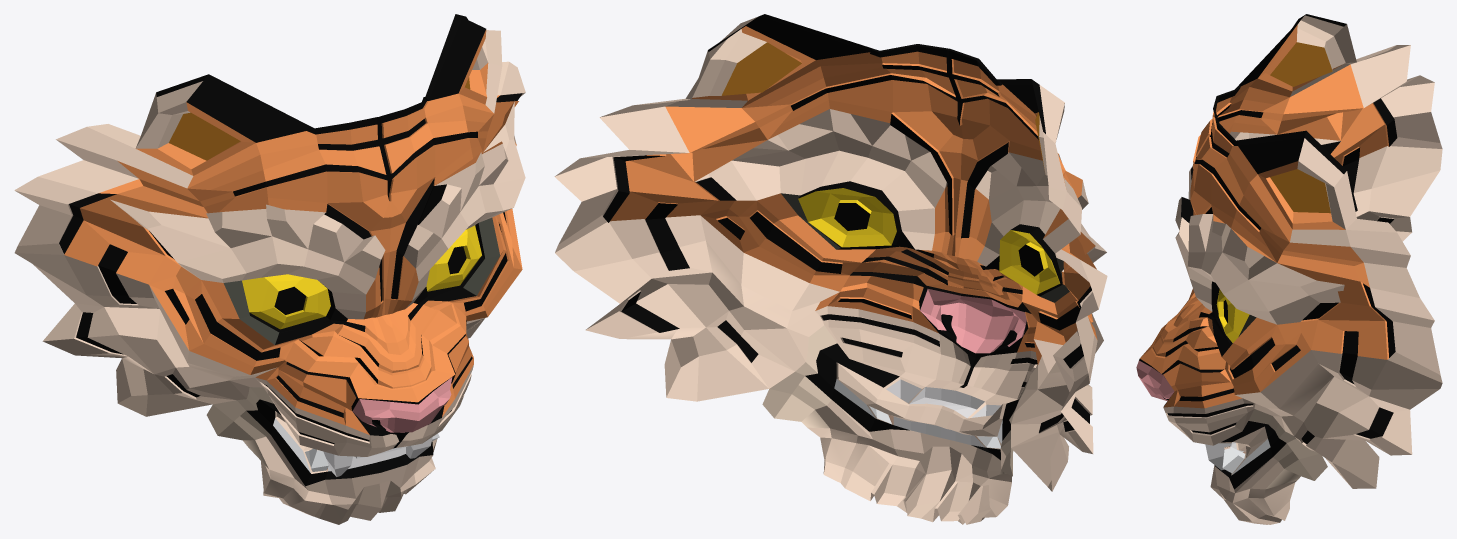
Rendered from tiger-1.obj.
3 views of the same model, side by side, from view 1: azimuth 30°, elevation 25°; view 2: azimuth 150°, elevation 25°; view 3: azimuth 270°, elevation 25° (orthographic). The views are drawn at different scales.
Parts seen in each view (by area): view 1: Cube.004; view 2: Cube.004; view 3: Cube.004.
Part boxes in pixels (x1=…): Cube.004: x1=14, y1=14, x2=525, y2=524; Cube.004: x1=554, y1=14, x2=1107, y2=524; Cube.004: x1=1136, y1=14, x2=1442, y2=524.
Bounding box in the file's own units: 244 × 210 × 133.
